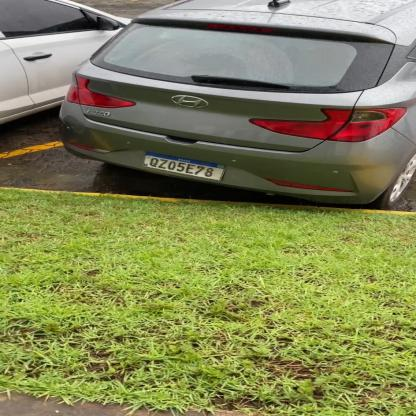Plate: (139, 148, 238, 184)
